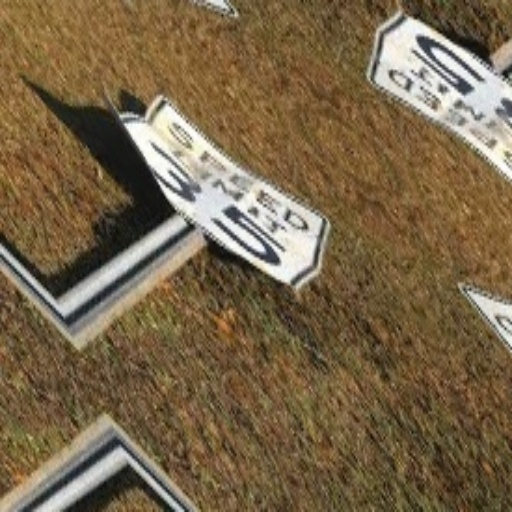Speed limit: (108, 78, 340, 306), (368, 9, 511, 157)
